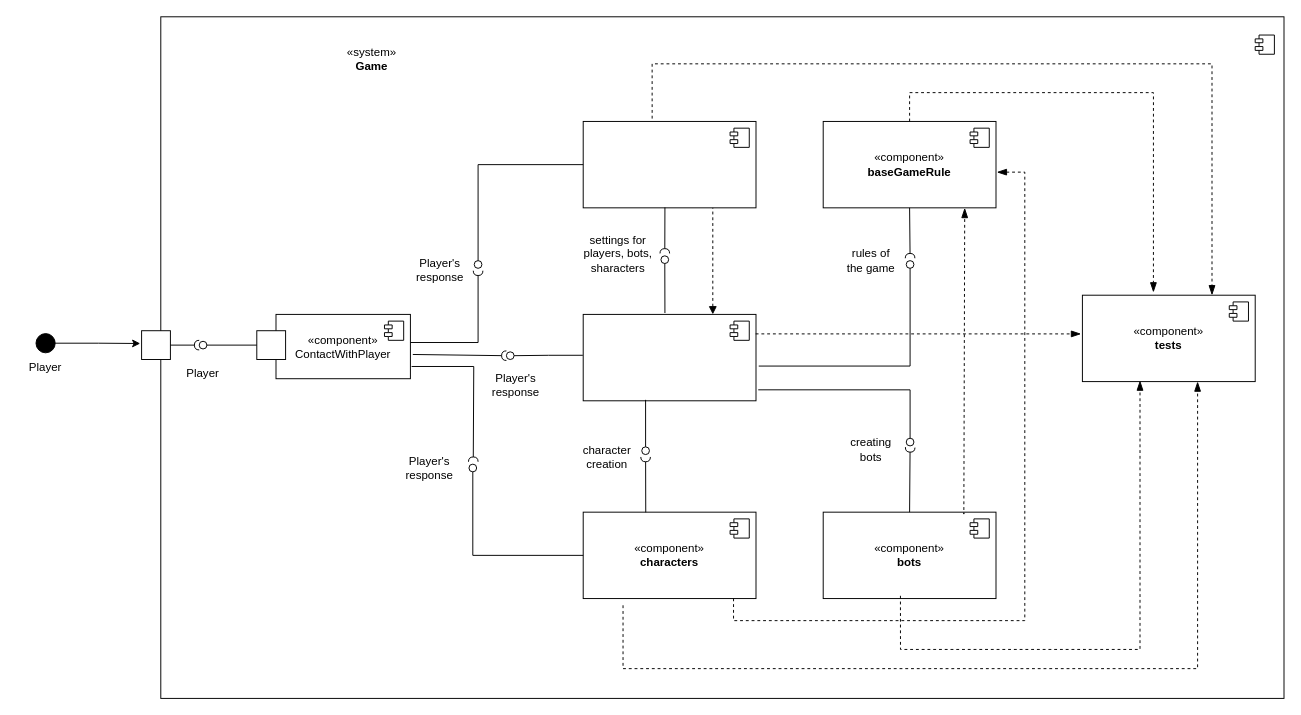
Some shapes in this 1301 by 715 pixel diagram are drawn without their labels. The box of each missing label's shape, as (x1, y1, x2, y2) in pixels:
«component» gameMode: (582, 120, 756, 208)
«component» pathGame: (582, 313, 756, 401)
